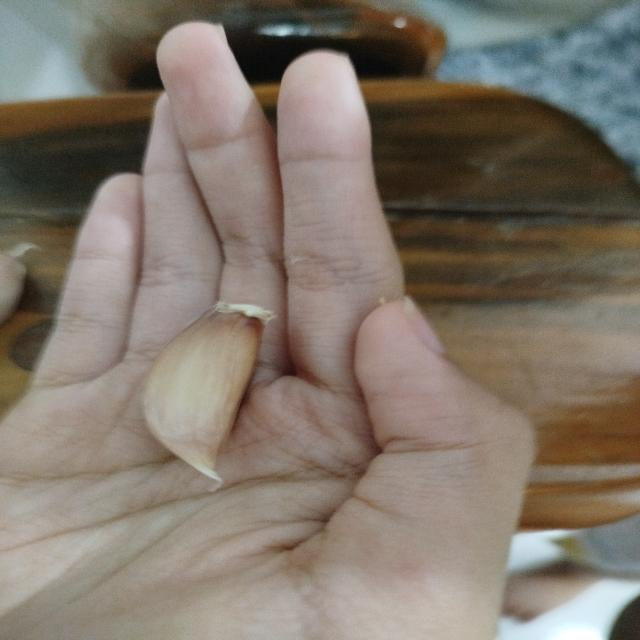garlic: (140, 300, 276, 482)
